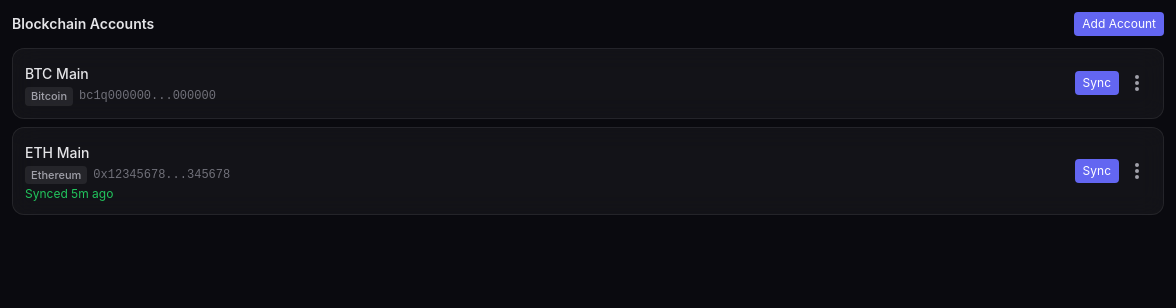
Test: WalletAccounts › opens move to wallet form from dropdown
The image size is (1176, 308).
Click the button without text in the row of "bc1q000000...000000" at (1137, 83), box [1123,69,1151,97]
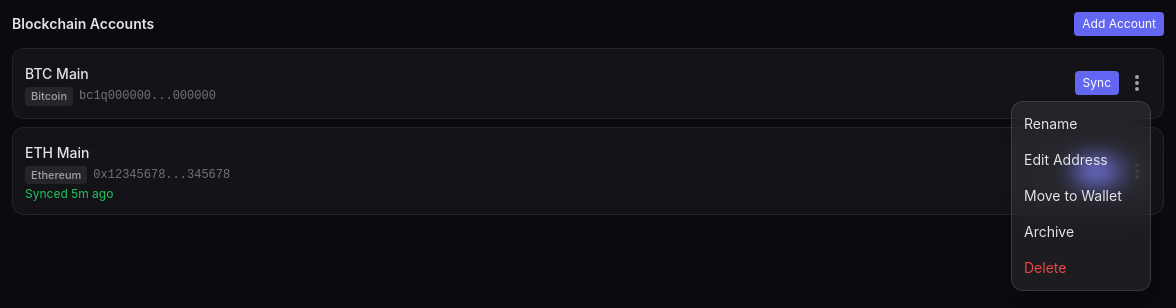
Check: the button "Move to Wallet" is shown
Click the button "Move to Wallet" at (1081, 196), box [1012,178,1150,214]
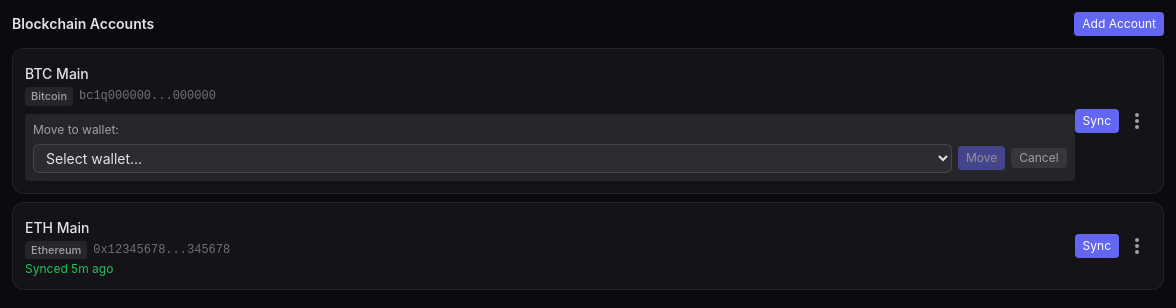
Check: the text "Move to wallet:" is shown, box [33,122,119,137]
Check: the button "Move" is shown, box [958,146,1005,170]
